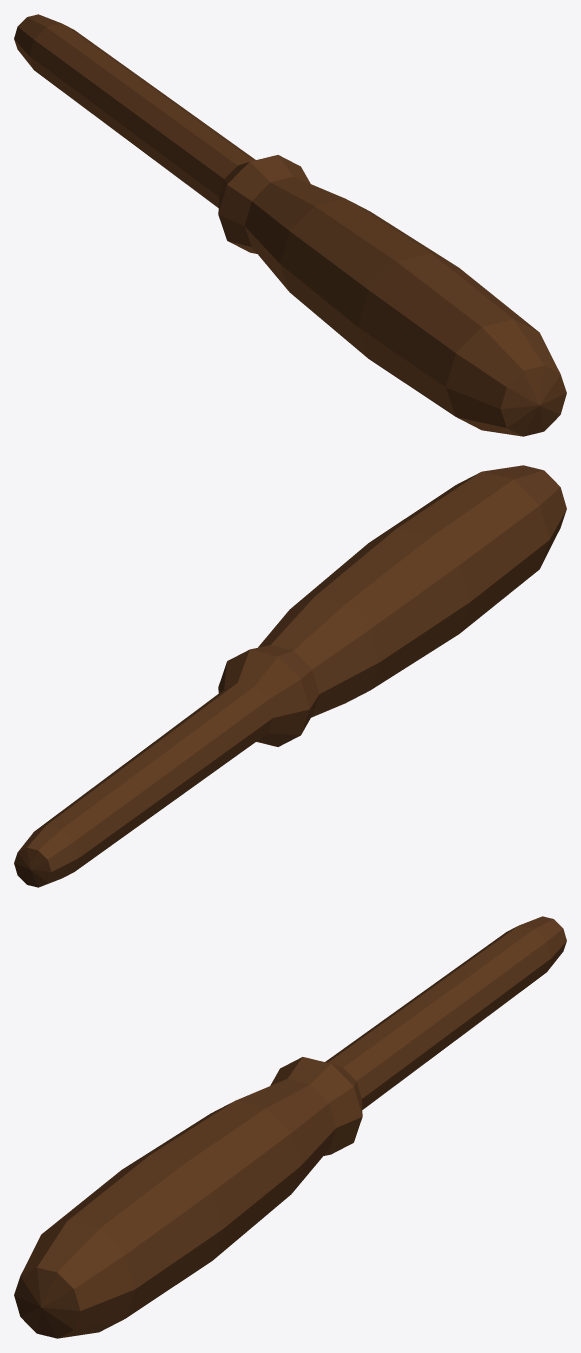
Rendered from pin.glb.
3 renders of one model, top to bottom at view 1: azimuth 30°, elevation 25°; view 2: azimuth 150°, elevation 25°; view 3: azimuth 330°, elevation 25°, orthographic.
Parts seen in each view (by area): view 1: pin; view 2: pin; view 3: pin.
Part boxes in pixels (x1,y1,x2,y2): pin: (14,14,566,436); pin: (14,465,566,887); pin: (14,916,566,1338).
Bounding box in the file's own units: 0.054 × 0.0514 × 0.425.
